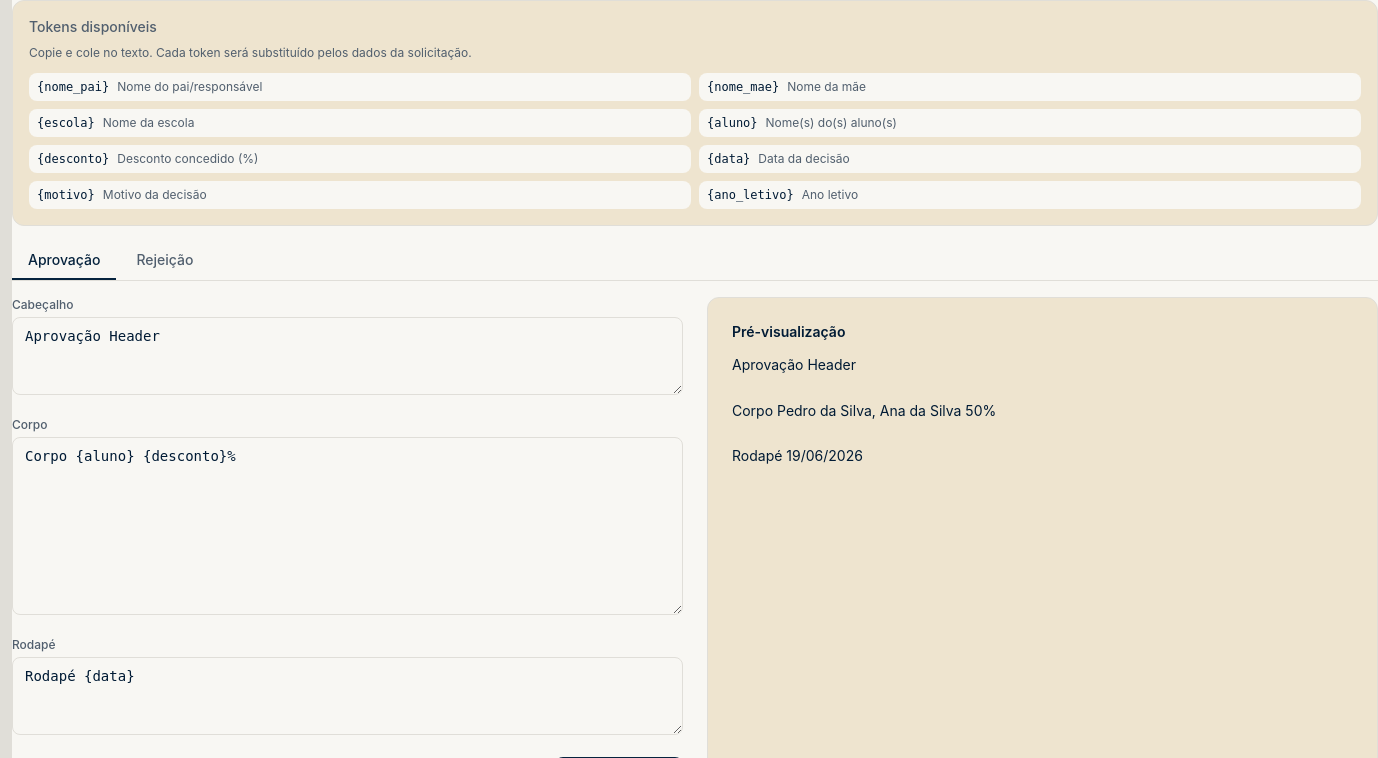
Test: TemplateEditor › switches tabs and shows different template data
Expected: the text box with test id "field-cabecalho" holds "Aprovação Header", [12, 317, 683, 395]
Click the tab with test id "tab-rejeicao".
click(165, 261)  # box [120, 242, 210, 280]
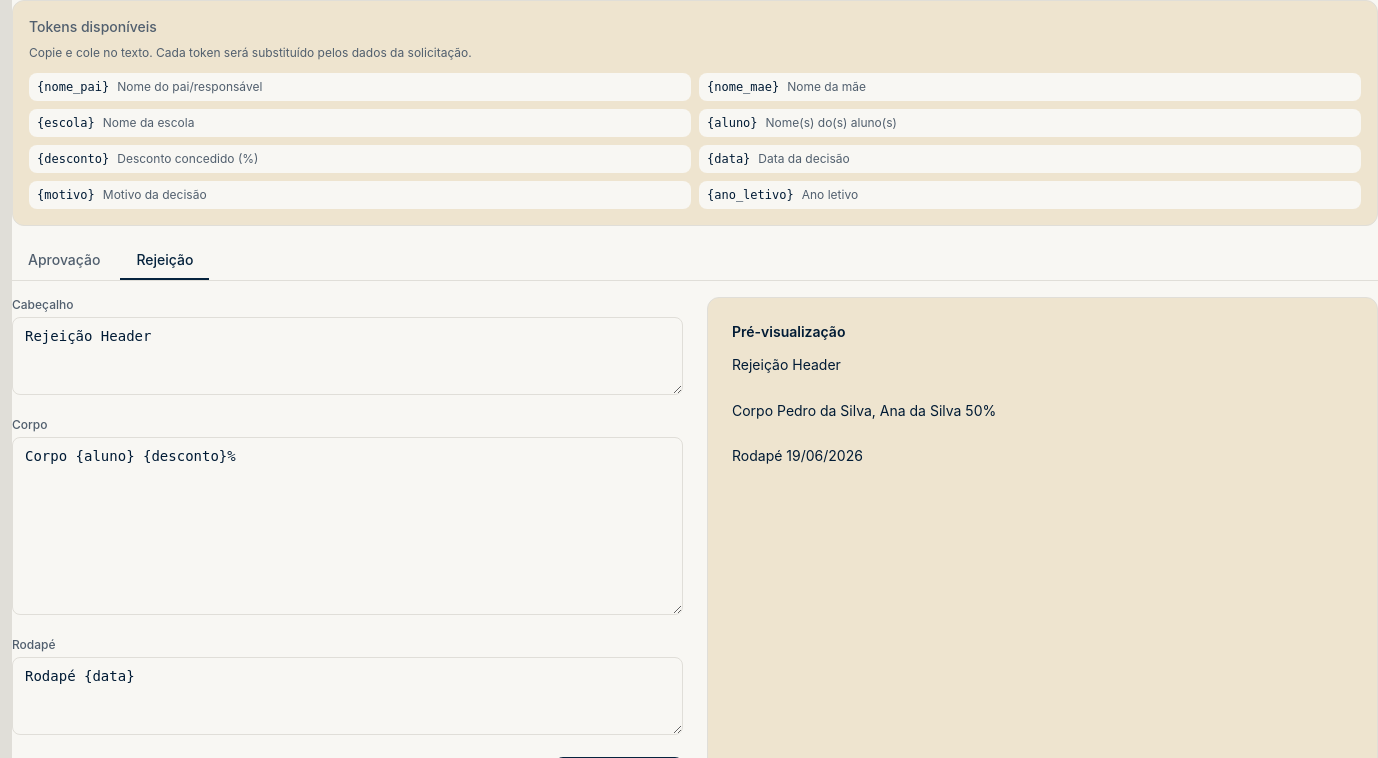
Now the text box with test id "field-cabecalho" holds "Rejeição Header", box [12, 317, 683, 395]
